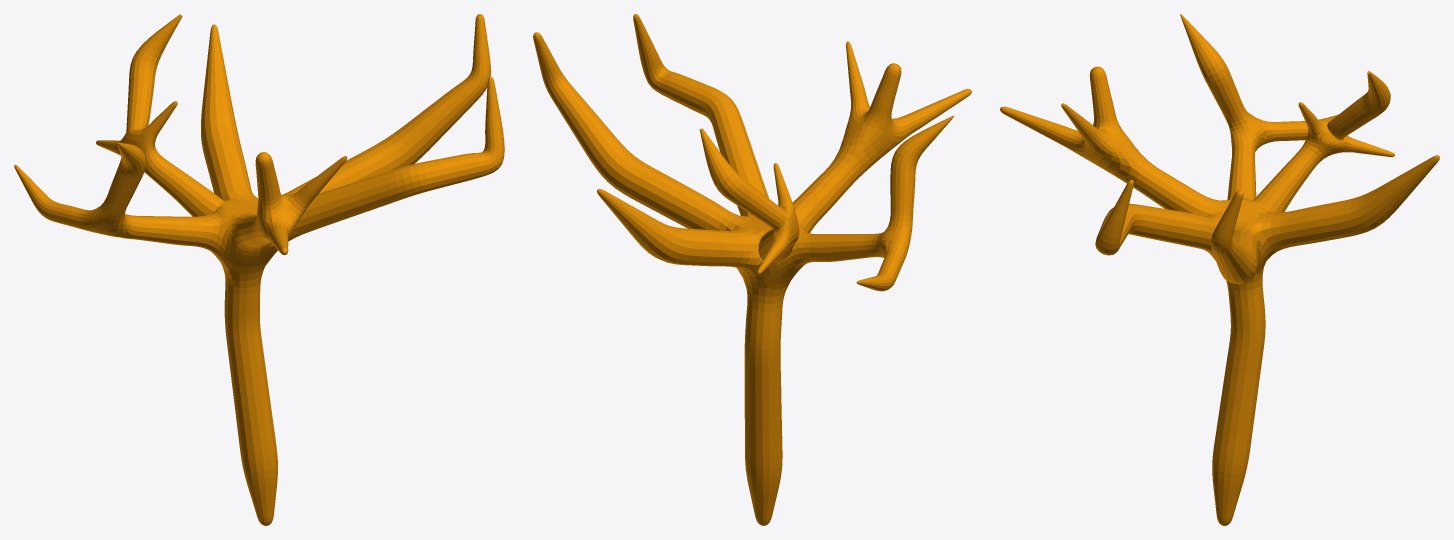
File: Raizes.fbx
3 renders of one model, left to right at view 1: azimuth 30°, elevation 25°; view 2: azimuth 150°, elevation 25°; view 3: azimuth 270°, elevation 25°, orthographic. The views are drawn at different scales.
Parts seen in each view (by area): view 1: Vert; view 2: Vert; view 3: Vert.
Boxes of the visible parts, <box> form: Vert: <box>14,14,504,525</box>; Vert: <box>533,14,971,525</box>; Vert: <box>1000,14,1439,525</box>.
Size of the model in its own units: 385 by 419 by 372.
